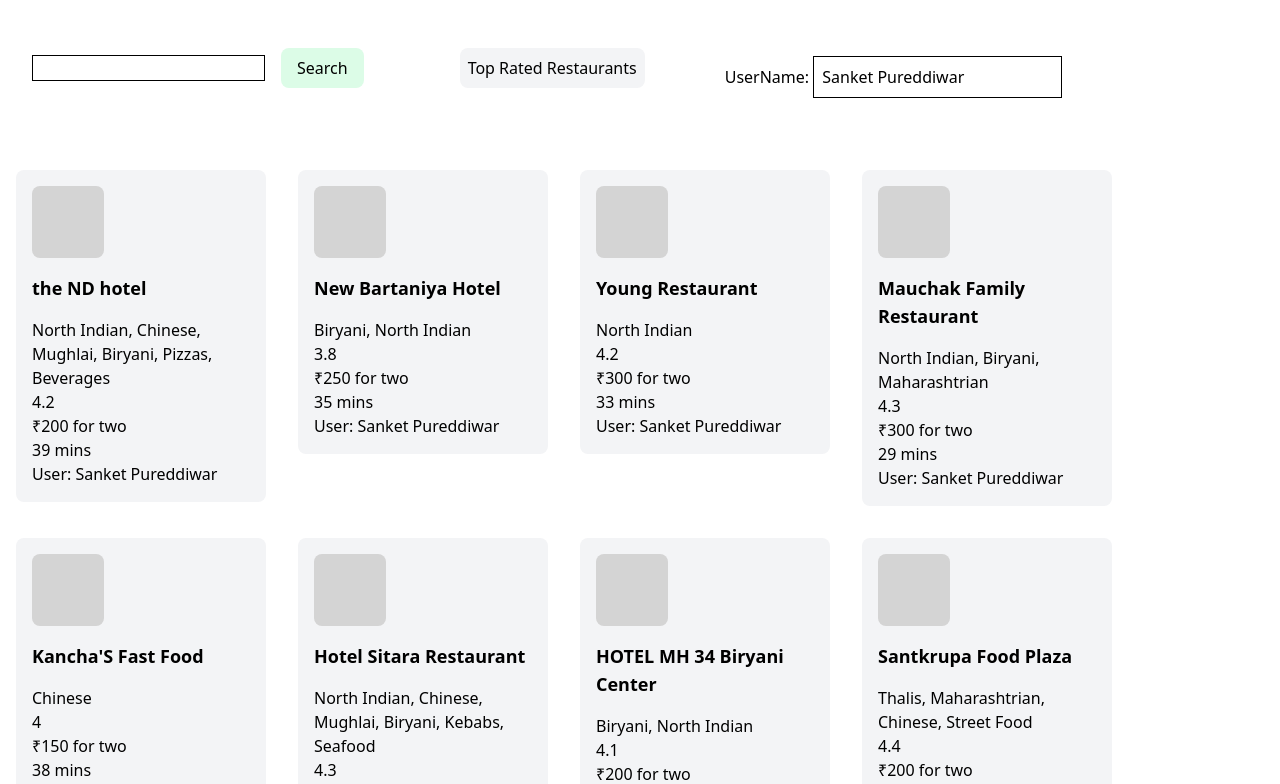
Test: Testing the search functionality › Should filter top rated restaurant
Click the button "Top Rated Restaurants".
click(552, 68)  # box [460,48,645,88]
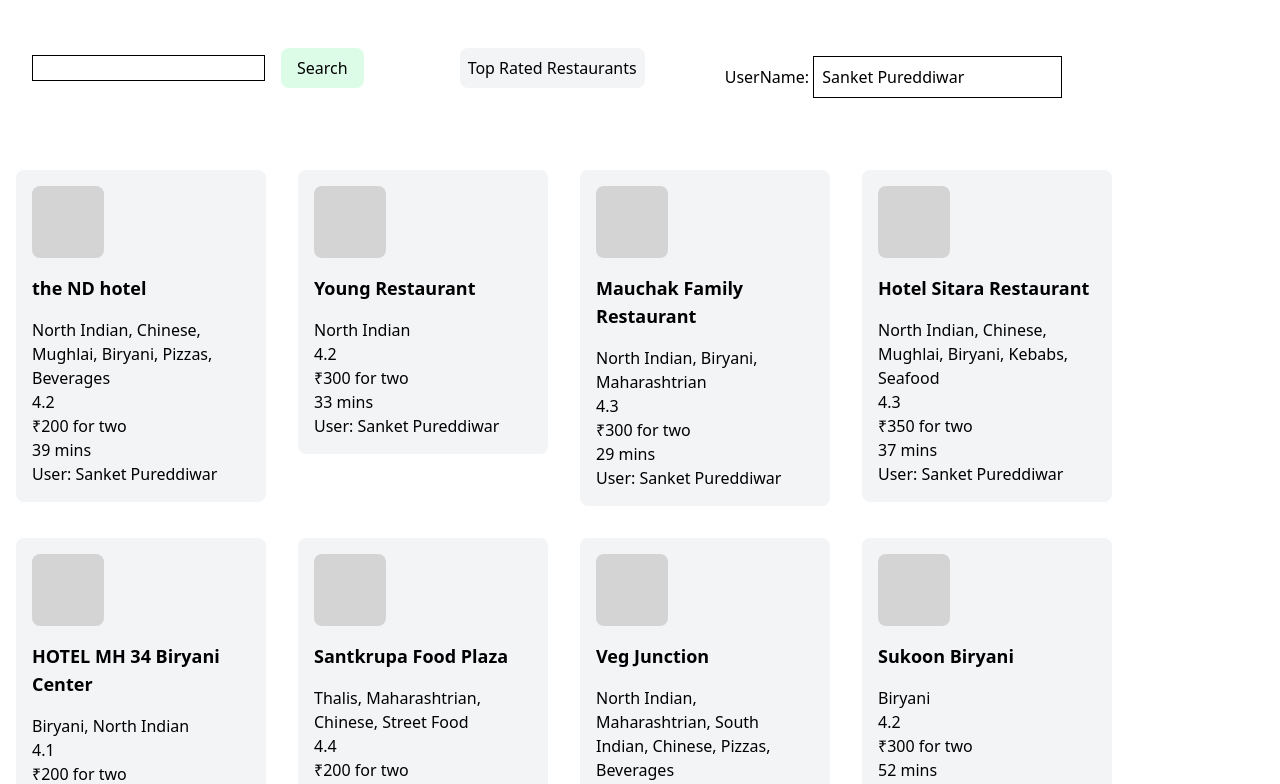
Result: the number of elements with test id "resCard" is 16
